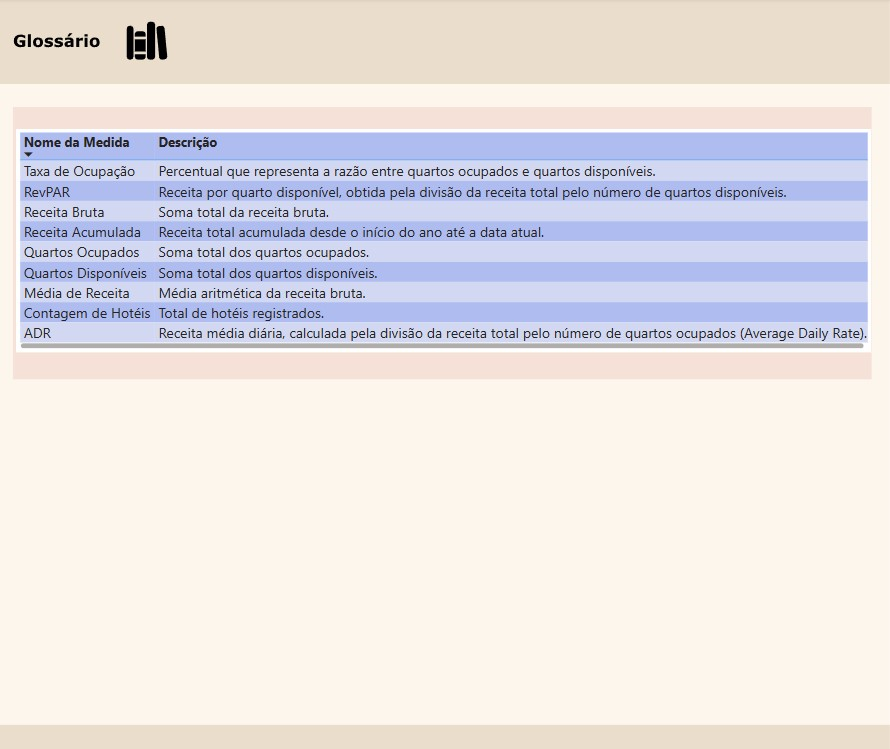

The page's visual inventory and layout, read from the dashboard file:
{"tool":"powerbi","page":{"name":"Glossário","canvas":[1280,1080],"ordinal":2},"visuals":[{"type":"tableEx","fields":{"Values":["Glossário.Nome da Medida","Glossário.Descrição"]},"box":[26.7,188.3,1225,320],"z":0}]}

Visuals, with their boxes in screenshot pixels (x1, y1, x2, y2), scaled from the page's 1280x1080 canvas onto the 890x749 screenshot:
tableEx - Glossário.Nome da Medida x Glossário.Descrição: <region>19, 131, 870, 353</region>
